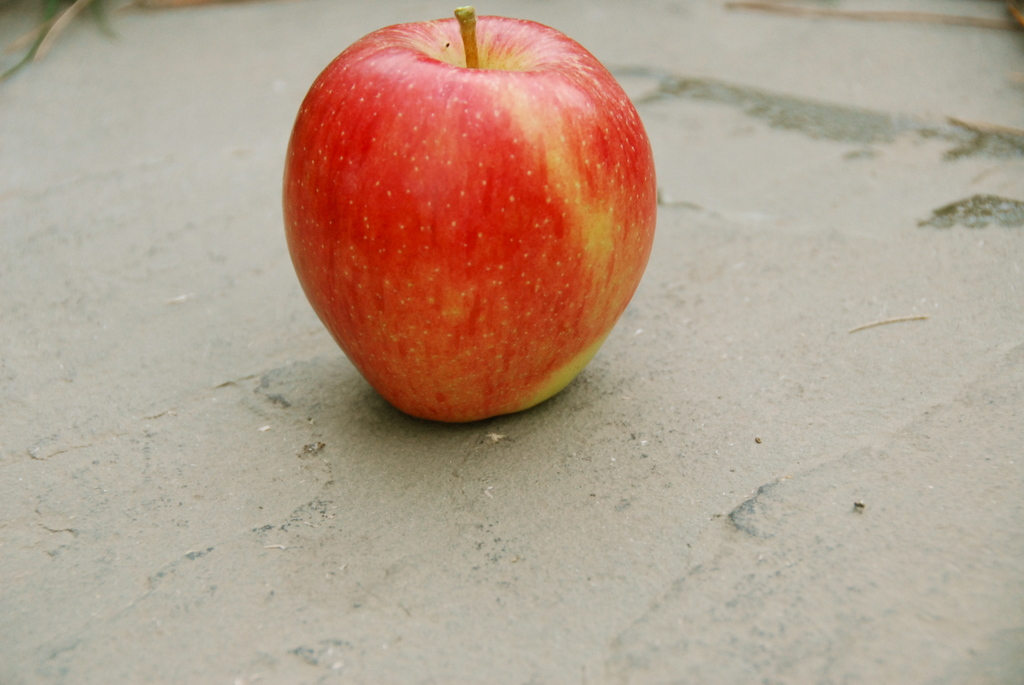Apple: (266, 0, 661, 424)
